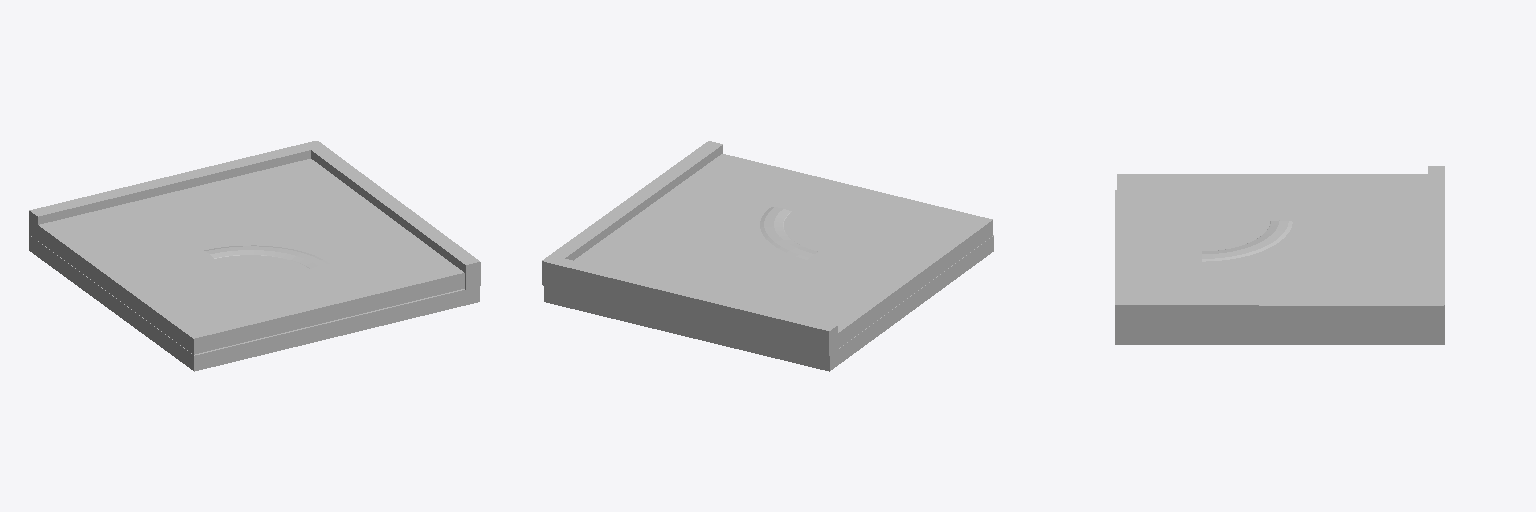
Rendered from road2TURN.obj.
3 views of the same model, side by side, from view 1: azimuth 30°, elevation 25°; view 2: azimuth 150°, elevation 25°; view 3: azimuth 270°, elevation 25° (orthographic).
Visible parts, largest first — view 1: Torus.003; view 2: Torus.003; view 3: Torus.003.
Part boxes in pixels (bbox=[...]): Torus.003: bbox=[29, 141, 480, 371]; Torus.003: bbox=[542, 141, 993, 371]; Torus.003: bbox=[1115, 166, 1444, 344].
Size of the model in its own units: 2.02 by 0.2705 by 2.